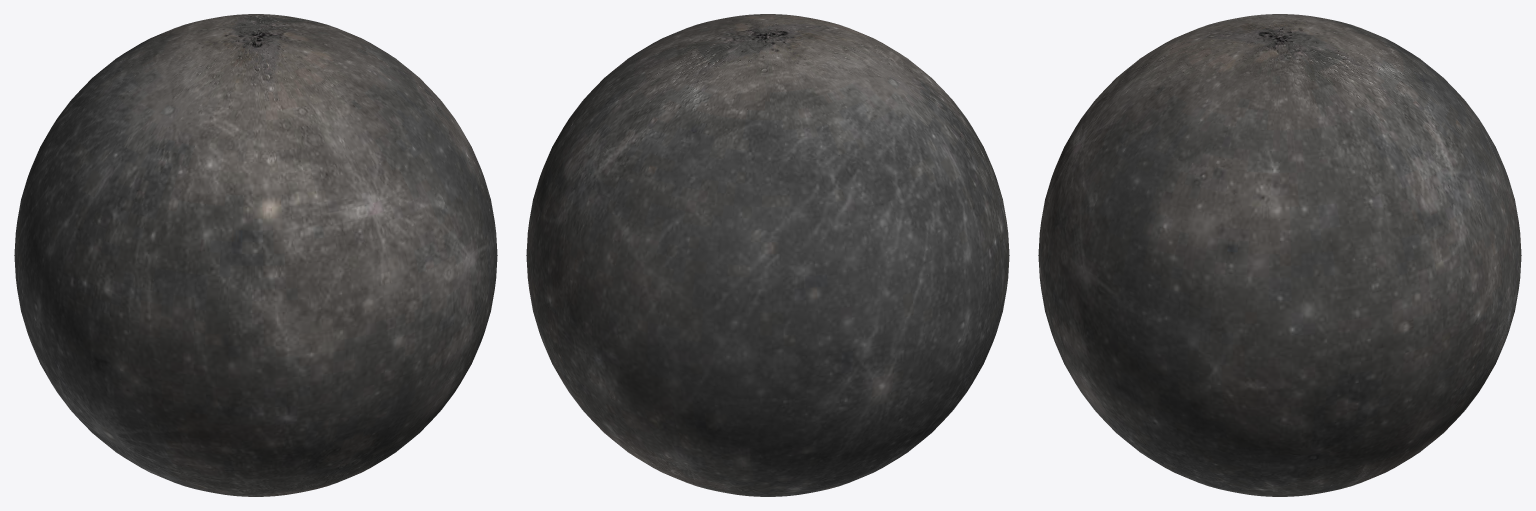
The model's file is mercurio.glb.
3 renders of one model, left to right at view 1: azimuth 30°, elevation 25°; view 2: azimuth 150°, elevation 25°; view 3: azimuth 270°, elevation 25°, orthographic.
Parts seen in each view (by area): view 1: Esfera; view 2: Esfera; view 3: Esfera.
Boxes of the visible parts, x1,y1,x2,y2 form: Esfera: [14, 14, 497, 496]; Esfera: [526, 14, 1009, 496]; Esfera: [1038, 14, 1521, 496].
Bounding box in the file's own units: 2 × 2 × 2.
Materials: 1 (1 with a texture image).
